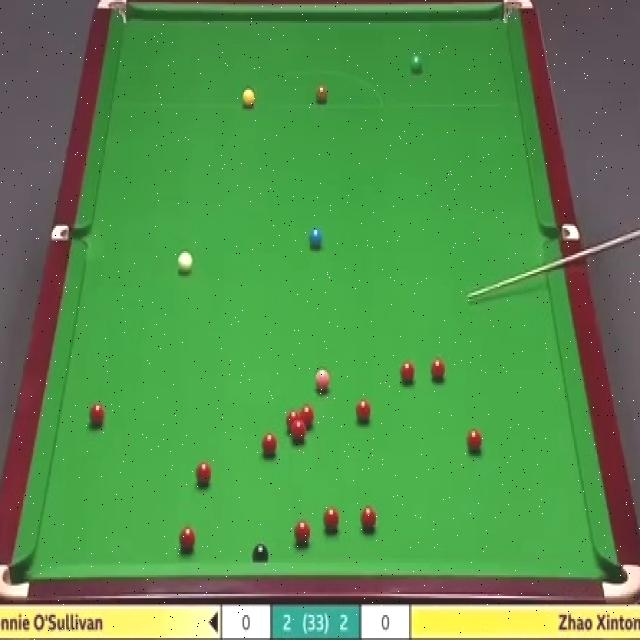black-ball: (252, 544, 269, 563)
blue-ball: (307, 224, 323, 250)
brown-ball: (316, 85, 328, 104)
green-ball: (408, 54, 424, 74)
pink-ball: (315, 364, 331, 392)
red-ball: (89, 401, 107, 430), (399, 359, 416, 389), (465, 431, 483, 457), (360, 505, 377, 532), (195, 460, 211, 488), (179, 526, 196, 552), (355, 398, 371, 425), (295, 520, 311, 546), (324, 507, 339, 533), (300, 406, 315, 432), (430, 360, 446, 384), (262, 432, 277, 457), (292, 423, 306, 443), (286, 410, 300, 430)
white-ball: (175, 247, 194, 277)
yellow-ball: (241, 86, 255, 108)
